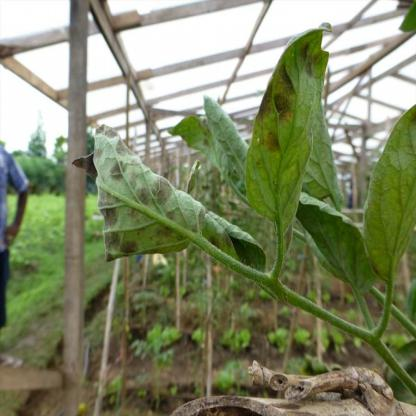tomato mold leaf: (242, 6, 327, 235), (82, 124, 207, 269), (360, 95, 416, 278)
